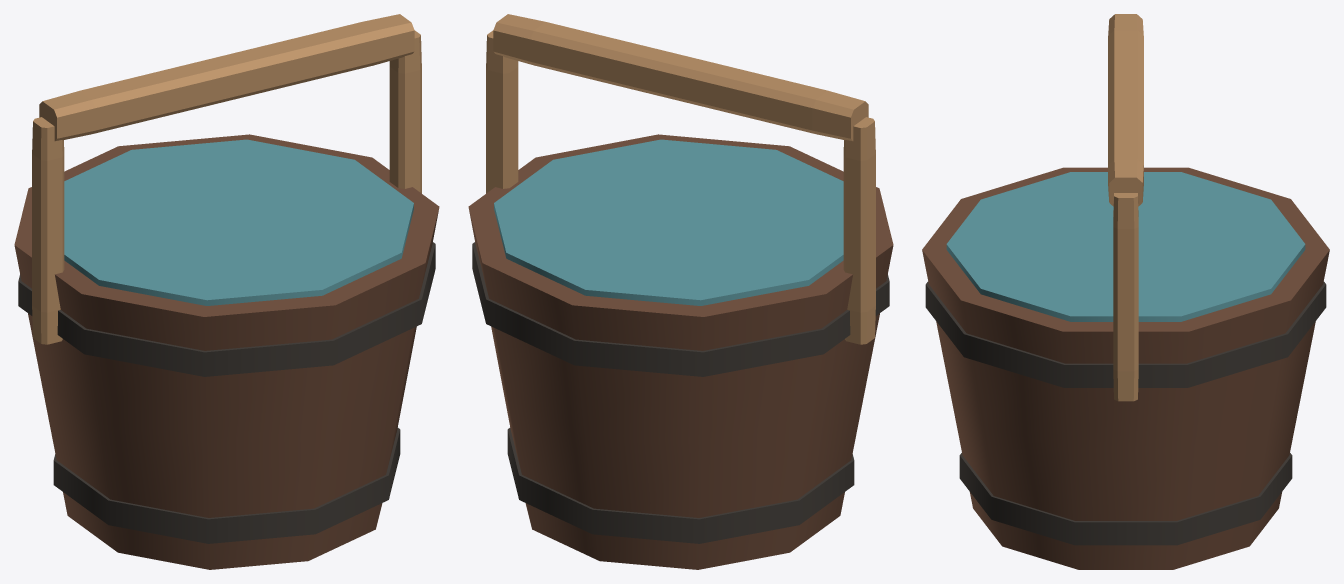
The model's file is water_bucket.glb.
The picture shows the model from 3 angles, left to right: view 1: azimuth 30°, elevation 25°; view 2: azimuth 150°, elevation 25°; view 3: azimuth 270°, elevation 25°; orthographic projection. The views are drawn at different scales.
Parts seen in each view (by area): view 1: BucketBody, WaterSurface, CarryHandle, _MeshInstance3D_21, Binding, HandleUpright, _MeshInstance3D_22; view 2: BucketBody, WaterSurface, CarryHandle, _MeshInstance3D_21, Binding, HandleUpright, _MeshInstance3D_22; view 3: BucketBody, WaterSurface, _MeshInstance3D_21, Binding, CarryHandle, _MeshInstance3D_22.
Boxes of the visible parts, x1,y1,x2,y2 form: BucketBody: [14, 134, 439, 569]; WaterSurface: [64, 139, 413, 305]; CarryHandle: [39, 14, 414, 141]; _MeshInstance3D_21: [18, 242, 435, 376]; Binding: [53, 427, 400, 543]; HandleUpright: [32, 117, 64, 344]; _MeshInstance3D_22: [389, 30, 421, 193]; BucketBody: [468, 134, 893, 569]; WaterSurface: [494, 139, 843, 305]; CarryHandle: [493, 14, 868, 141]; _MeshInstance3D_21: [472, 242, 889, 376]; Binding: [507, 427, 854, 543]; HandleUpright: [843, 117, 875, 344]; _MeshInstance3D_22: [486, 30, 518, 193]; BucketBody: [922, 167, 1329, 569]; WaterSurface: [946, 172, 1305, 321]; _MeshInstance3D_21: [925, 281, 1326, 387]; Binding: [959, 453, 1292, 545]; CarryHandle: [1108, 14, 1143, 206]; _MeshInstance3D_22: [1113, 193, 1138, 401].
Bounding box in the file's own units: 0.405 × 0.4475 × 0.4.
